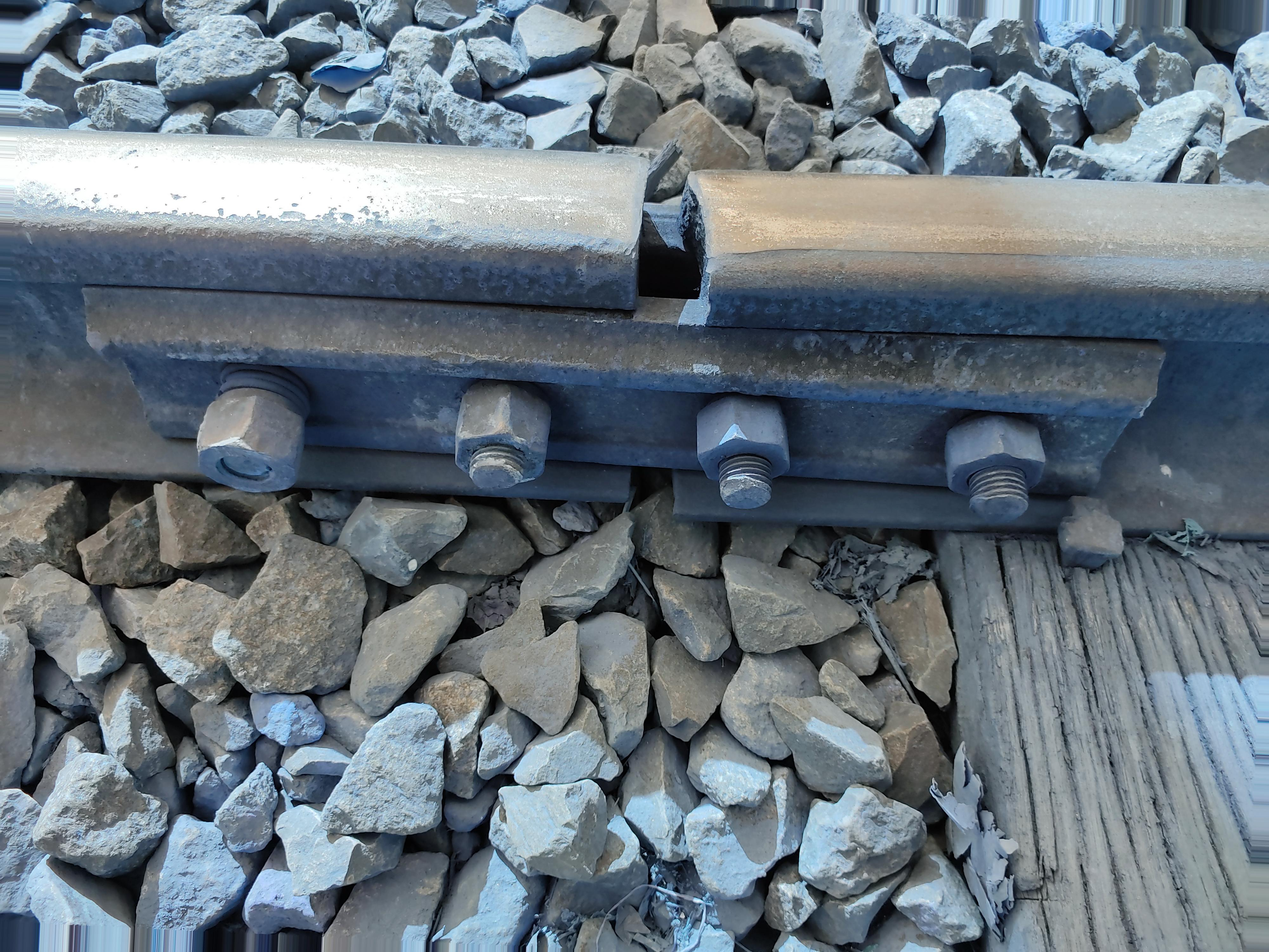tracks_fault: (593, 129, 780, 341)
